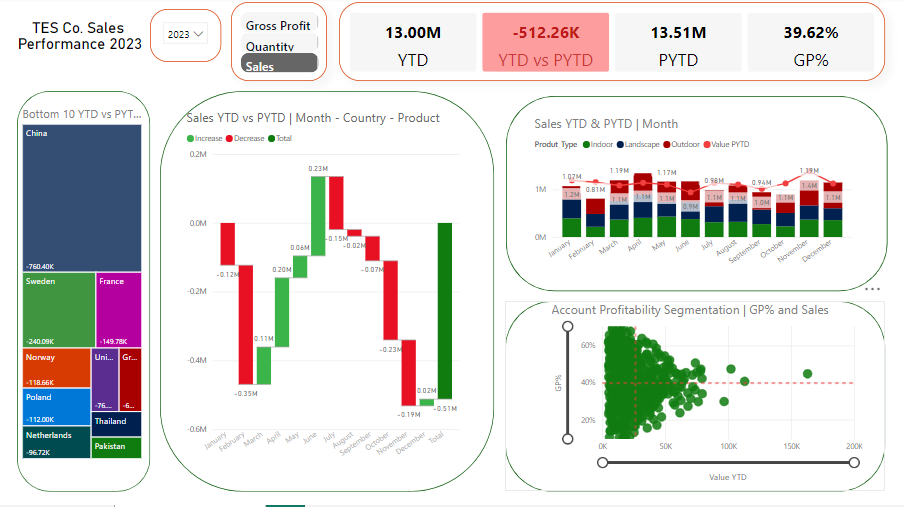

What the dashboard file says about the page in this screenshot:
{"tool":"powerbi","page":{"name":"Performance Report","canvas":[1280,720],"ordinal":0},"visuals":[{"type":"shape","box":[717.1,140.5,540.8,276.8],"z":0,"group":"g1"},{"type":"card","fields":{"Values":["_Measures._Report title"]},"box":[0,5.8,226.9,97.5],"z":500},{"type":"shape","box":[24,132.8,188.8,568],"z":1000},{"type":"shape","box":[227.2,132.8,473.6,568],"z":2000},{"type":"shape","box":[715.2,430.4,539.2,270.4],"z":3000},{"type":"cardVisual","fields":{"Data":["_Measures.S_YTD","_Measures.YTD vs PYTD","_Measures.S_PYTD","_Measures.GP%"]},"box":[480,6.4,774.4,112],"z":4000},{"type":"advancedSlicerVisual","fields":{"Values":["Slc_Values.Values"]},"box":[328,6.4,136,112],"z":5000},{"type":"slicer","fields":{"Values":["Dim_Date.Date.Variation.Date Hierarchy.Year"]},"box":[212.8,17.6,100.8,75.2],"z":6000},{"type":"lineStackedColumnComboChart","fields":{"Y":["_Measures.S_YTD"],"Y2":["_Measures.S_PYTD"],"Category":["Dim_Date.Date.Variation.Date Hierarchy.Quarter","Dim_Date.Date.Variation.Date Hierarchy.Month"],"Series":["Dim_Product.Produt_Type"]},"box":[752.1,166.7,460.1,223.6],"z":6000,"group":"g1"},{"type":"treemap","title":"Bottom 10 YTD vs PYTD | Country","fields":{"Values":["_Measures.YTD vs PYTD"],"Group":["Dim_Account.country"]},"box":[27.6,154.2,178.9,504.7],"z":7000},{"type":"waterfallChart","fields":{"Y":["_Measures.YTD vs PYTD"],"Category":["Dim_Date.Date.Variation.Date Hierarchy.Month","Dim_Account.country","Dim_Product.Produt_Type","Dim_Product.Product_Name"]},"box":[259.4,158.7,396.9,504.6],"z":8000},{"type":"scatterChart","fields":{"Y":["_Measures.GP%"],"X":["_Measures.S_YTD"],"Category":["Dim_Account.Account"]},"box":[776.7,430.9,450.7,256.5],"z":9000},{"type":"group","id":"g1","title":"Group 1","box":[717.1,140.5,540.8,276.8],"z":11000}]}

Visuals, with their boxes in screenshot pixels (x1, y1, x2, y2), scaled from the page's 1280x720 canvas onto the 904x507 screenshot:
shape: 506/99/888/294
card - _Measures._Report title: 0/4/160/73
shape: 17/94/150/493
shape: 160/94/495/493
shape: 505/303/886/493
cardVisual - _Measures.S_YTD x _Measures.YTD vs PYTD: 339/5/886/83
advancedSlicerVisual - Slc_Values.Values: 232/5/328/83
slicer - Dim_Date.Date.Variation.Date Hierarchy.Year: 150/12/221/65
lineStackedColumnComboChart - _Measures.S_YTD x _Measures.S_PYTD: 531/117/856/275
"Bottom 10 YTD vs PYTD | Country" treemap: 19/109/146/464
waterfallChart - _Measures.YTD vs PYTD x Dim_Date.Date.Variation.Date Hierarchy.Month: 183/112/464/467
scatterChart - _Measures.GP% x _Measures.S_YTD: 549/303/867/484
"Group 1" group: 506/99/888/294
